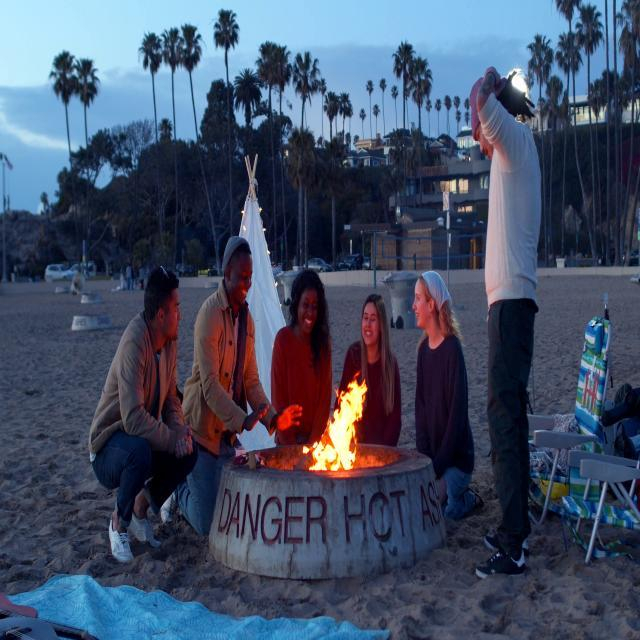Fire: (308, 369, 374, 468)
